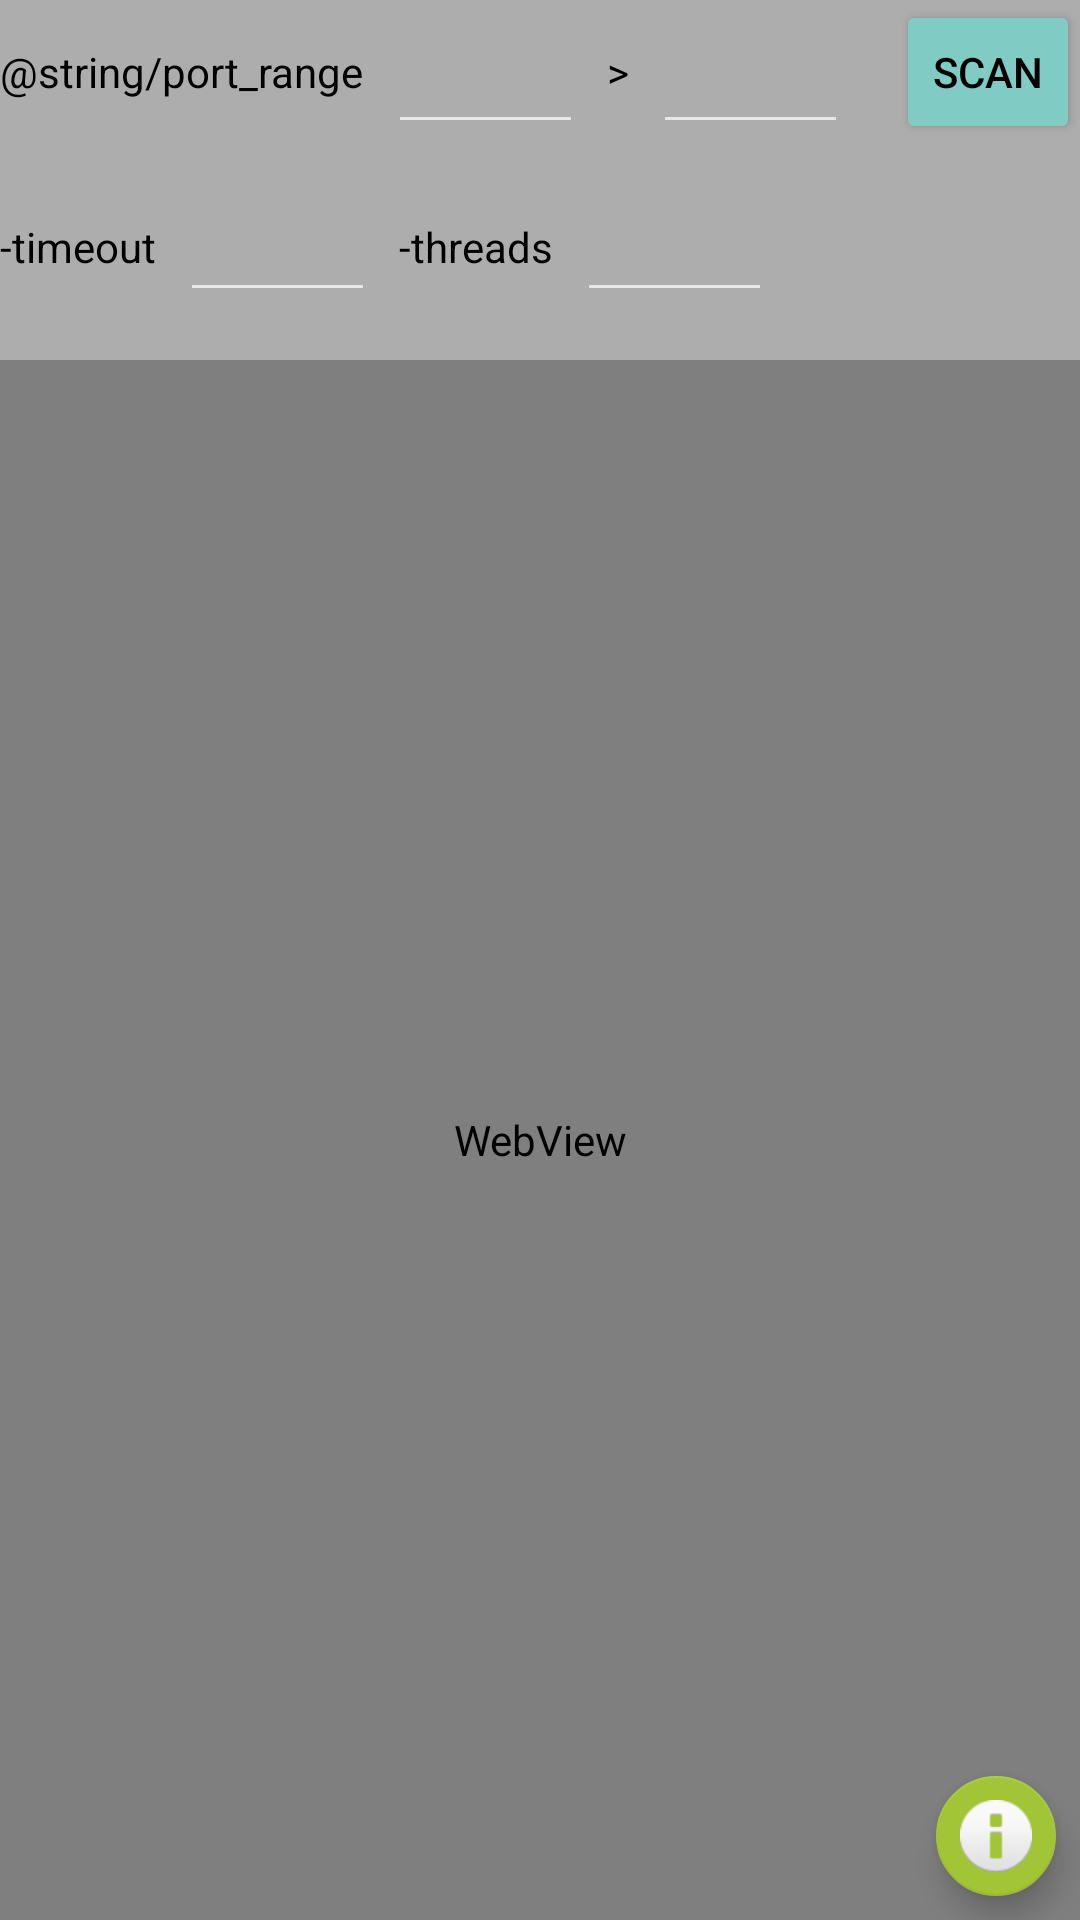

Where to tap for icons on this 1080 × 1920 app screen, as point (x, y):
info: point (996, 1836)
